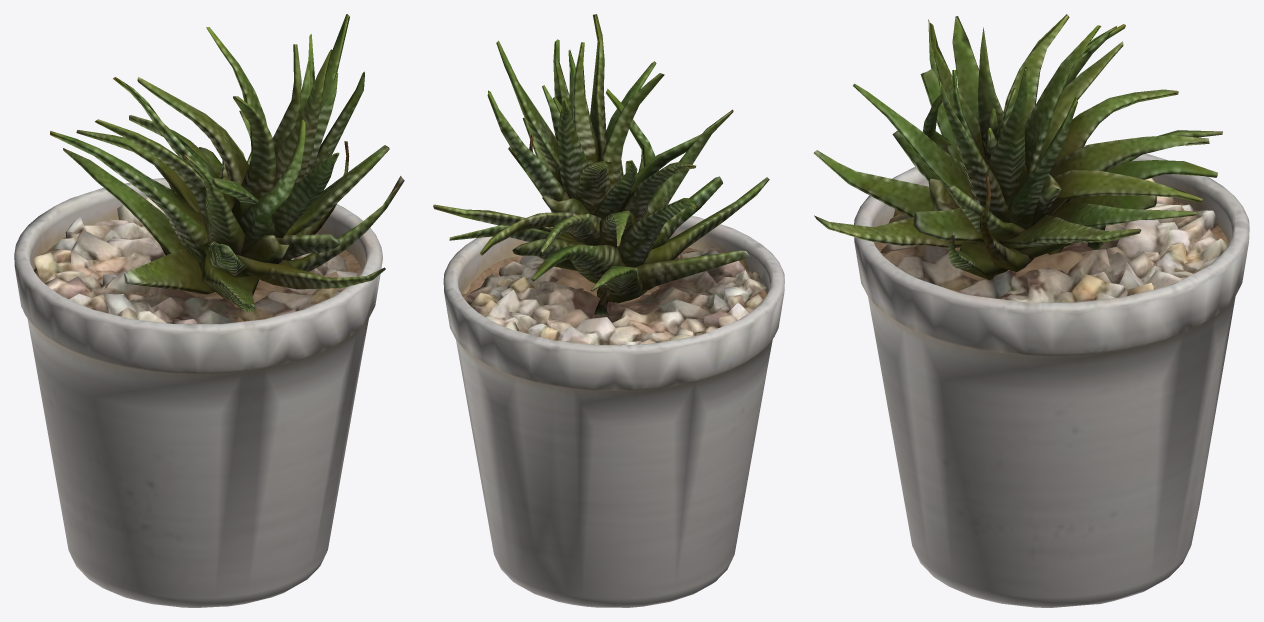
File: potted_plant_04.glb
3 renders of one model, left to right at view 1: azimuth 30°, elevation 25°; view 2: azimuth 150°, elevation 25°; view 3: azimuth 270°, elevation 25°, orthographic. The views are drawn at different scales.
Visible parts, largest first — view 1: potted_plant_04_pot, potted_plant_04_plant, potted_plant_04_ground, potted_plant_04_dirt; view 2: potted_plant_04_pot, potted_plant_04_plant, potted_plant_04_ground, potted_plant_04_dirt; view 3: potted_plant_04_pot, potted_plant_04_plant, potted_plant_04_ground, potted_plant_04_dirt.
Part boxes in pixels (x1,y1,x2,y2): potted_plant_04_pot: (14,178,382,607); potted_plant_04_plant: (50,14,404,312); potted_plant_04_ground: (33,196,357,323); potted_plant_04_dirt: (33,237,362,307); potted_plant_04_pot: (443,216,784,607); potted_plant_04_plant: (433,14,769,314); potted_plant_04_ground: (462,247,766,344); potted_plant_04_dirt: (462,247,766,306); potted_plant_04_pot: (854,145,1249,607); potted_plant_04_plant: (813,14,1222,280); potted_plant_04_ground: (880,178,1227,302); potted_plant_04_dirt: (874,200,1228,297).
Size of the model in its own units: 0.1672 by 0.2672 by 0.184.
Materials: 1 (1 with a texture image).
